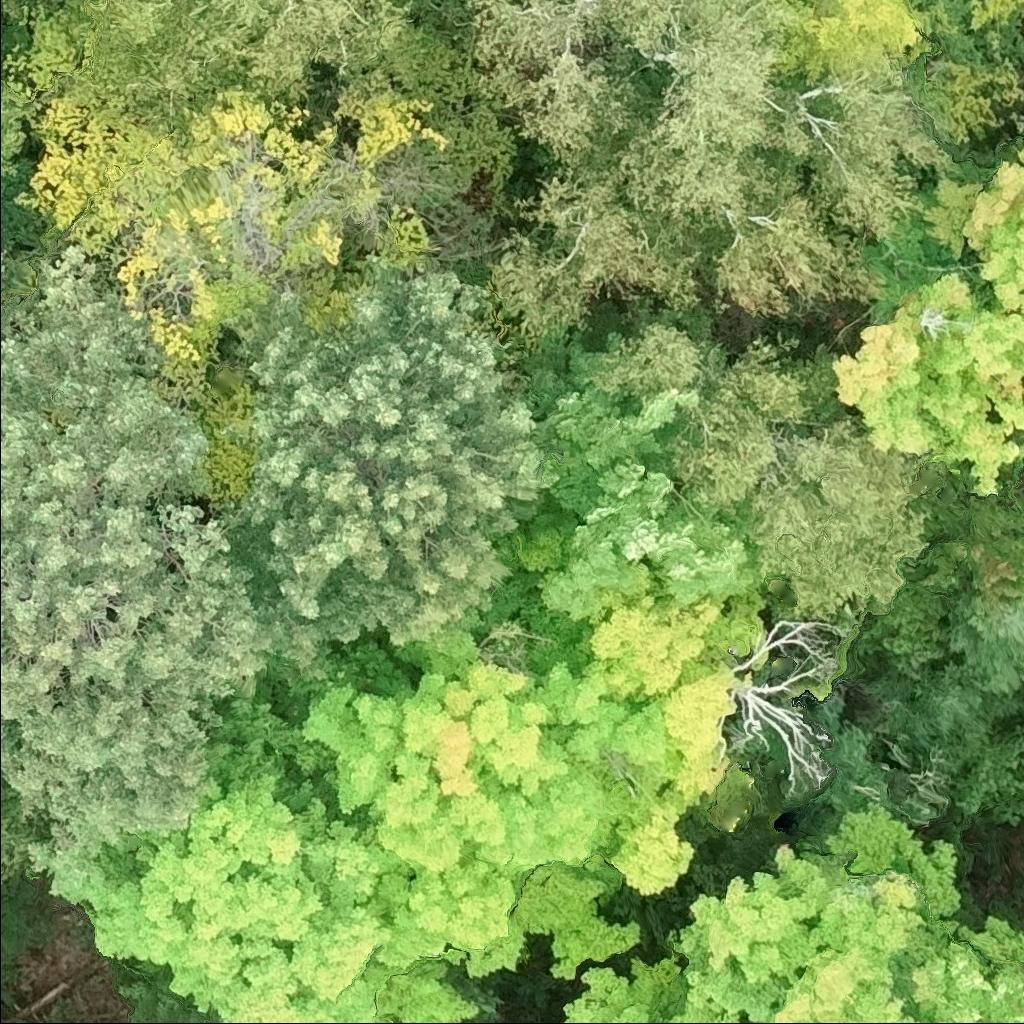crown: (215, 568, 768, 980), (477, 0, 961, 360), (0, 244, 278, 866), (216, 255, 559, 680), (14, 84, 453, 413), (30, 731, 483, 1023), (500, 302, 765, 621), (669, 800, 1023, 1023), (829, 218, 1023, 495), (51, 0, 416, 143), (591, 302, 843, 505), (750, 405, 931, 625), (463, 0, 670, 169), (719, 615, 843, 798), (862, 655, 1021, 772), (919, 136, 1023, 312), (777, 0, 962, 92), (911, 493, 1023, 617), (940, 593, 1023, 698), (560, 954, 685, 1023), (0, 78, 43, 250), (0, 0, 47, 62), (130, 992, 217, 1023), (1015, 743, 1023, 818), (1011, 534, 1023, 574)
